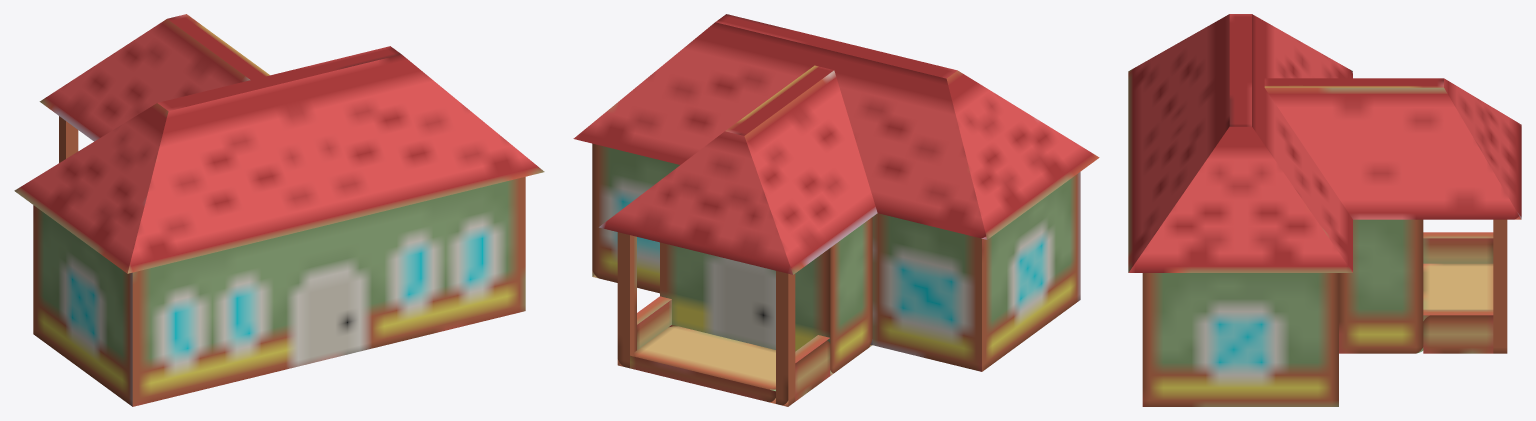
Rendered from Rumah_Tipe2.fbx.
3 renders of one model, left to right at view 1: azimuth 30°, elevation 25°; view 2: azimuth 150°, elevation 25°; view 3: azimuth 270°, elevation 25°, orthographic.
Visible parts, largest first — view 1: Tembok2, Atap2, Atap1, Pole1; view 2: Atap2, Tembok2, Atap1, Tembok1, Lantai, Pole1, Pole2, Tembok_K1, Tembok_K2; view 3: Atap2, Atap1, Tembok2, Tembok1, Lantai, Tembok_K2, Tembok_K1, Pole2.
Part boxes in pixels (x1,y1,x2,y2): Tembok2: [33, 177, 525, 406]; Atap2: [14, 46, 544, 273]; Atap1: [39, 14, 269, 141]; Pole1: [59, 116, 78, 162]; Atap2: [573, 14, 1099, 239]; Tembok2: [592, 143, 1080, 371]; Atap1: [599, 65, 877, 274]; Tembok1: [660, 217, 872, 375]; Lantai: [630, 325, 775, 403]; Pole1: [776, 271, 795, 406]; Pole2: [617, 232, 636, 368]; Tembok_K1: [795, 335, 830, 401]; Tembok_K2: [637, 296, 671, 349]; Atap2: [1128, 14, 1352, 272]; Atap1: [1264, 78, 1521, 219]; Tembok2: [1142, 273, 1338, 406]; Tembok1: [1339, 219, 1423, 353]; Lantai: [1423, 263, 1493, 309]; Tembok_K2: [1423, 309, 1493, 353]; Tembok_K1: [1423, 232, 1493, 263]; Pole2: [1493, 219, 1507, 353].
Bounding box in the file's own units: 1700 × 950 × 1400.
1 material, 1 textured.
